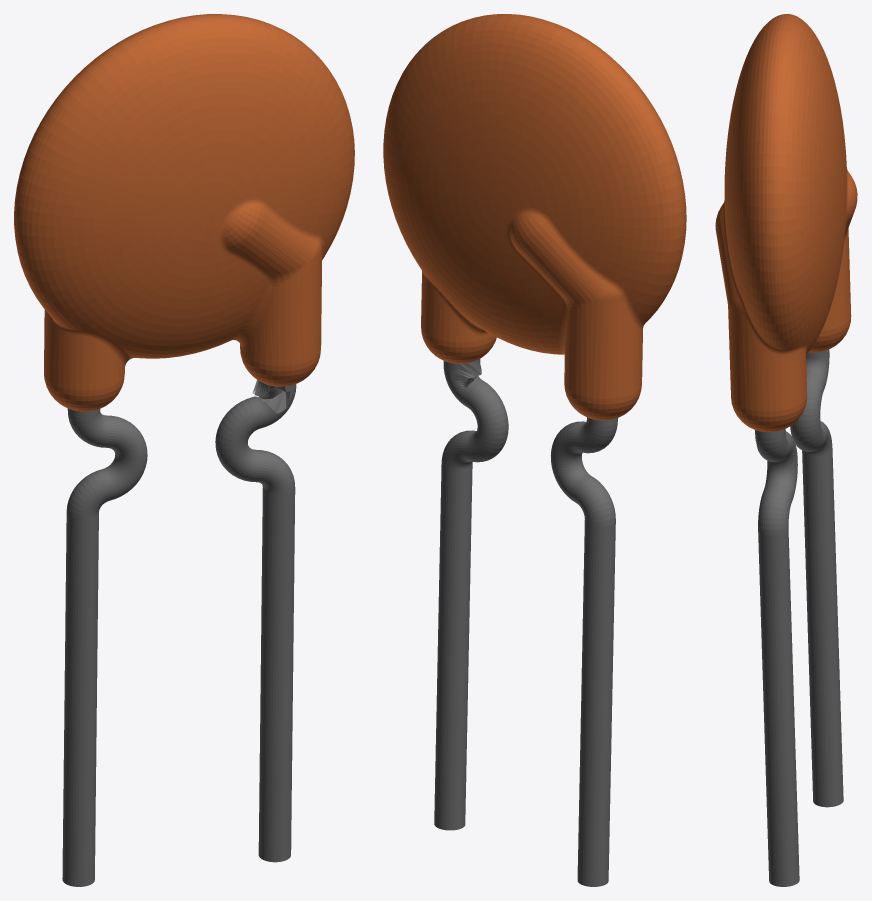
Rendered from capasitor keramik.fbx.
3 renders of one model, left to right at view 1: azimuth 30°, elevation 25°; view 2: azimuth 150°, elevation 25°; view 3: azimuth 270°, elevation 25°, orthographic. The views are drawn at different scales.
Visible parts, largest first — view 1: Capacitor Ceramic; view 2: Capacitor Ceramic; view 3: Capacitor Ceramic.
Boxes of the visible parts, left/top/right/bottom form: Capacitor Ceramic: left=14, top=14, right=354, bottom=886; Capacitor Ceramic: left=383, top=14, right=686, bottom=886; Capacitor Ceramic: left=715, top=14, right=857, bottom=886.
Bounding box in the file's own units: 688 × 1753 × 279.
